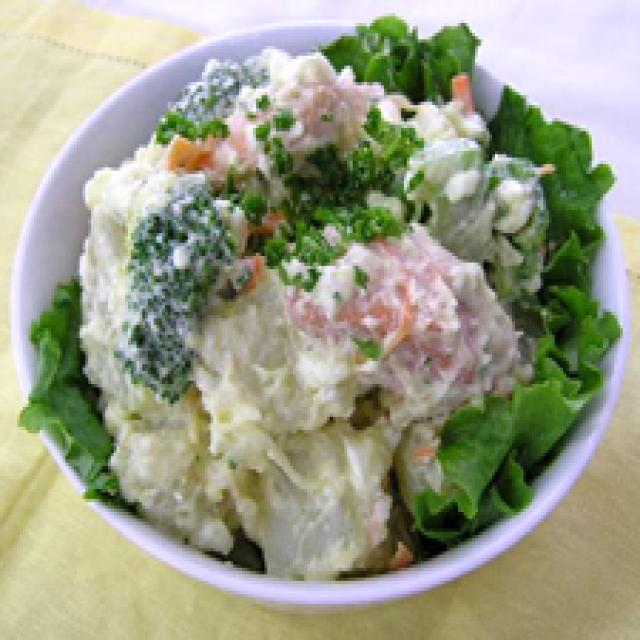蔬菜料理: (6, 10, 632, 620)
